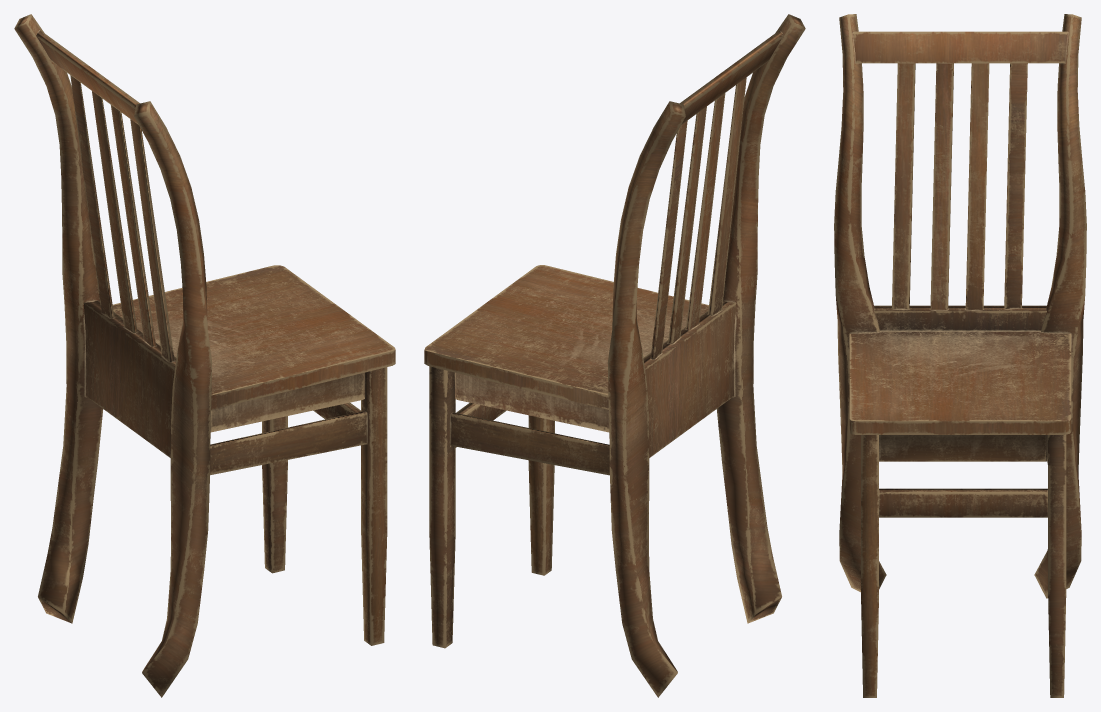
The model's file is wooden_chair.glb.
3 renders of one model, left to right at view 1: azimuth 30°, elevation 25°; view 2: azimuth 150°, elevation 25°; view 3: azimuth 270°, elevation 25°, orthographic. The views are drawn at different scales.
Visible parts, largest first — view 1: XOIAL_Chair; view 2: XOIAL_Chair; view 3: XOIAL_Chair.
Boxes of the visible parts, box(x1,y1,x2,y2) form: XOIAL_Chair: box(14, 14, 395, 697); XOIAL_Chair: box(424, 14, 805, 697); XOIAL_Chair: box(834, 14, 1086, 697).
Bounding box in the file's own units: 0.0547 × 0.1196 × 0.0479.
1 material, 1 textured.
